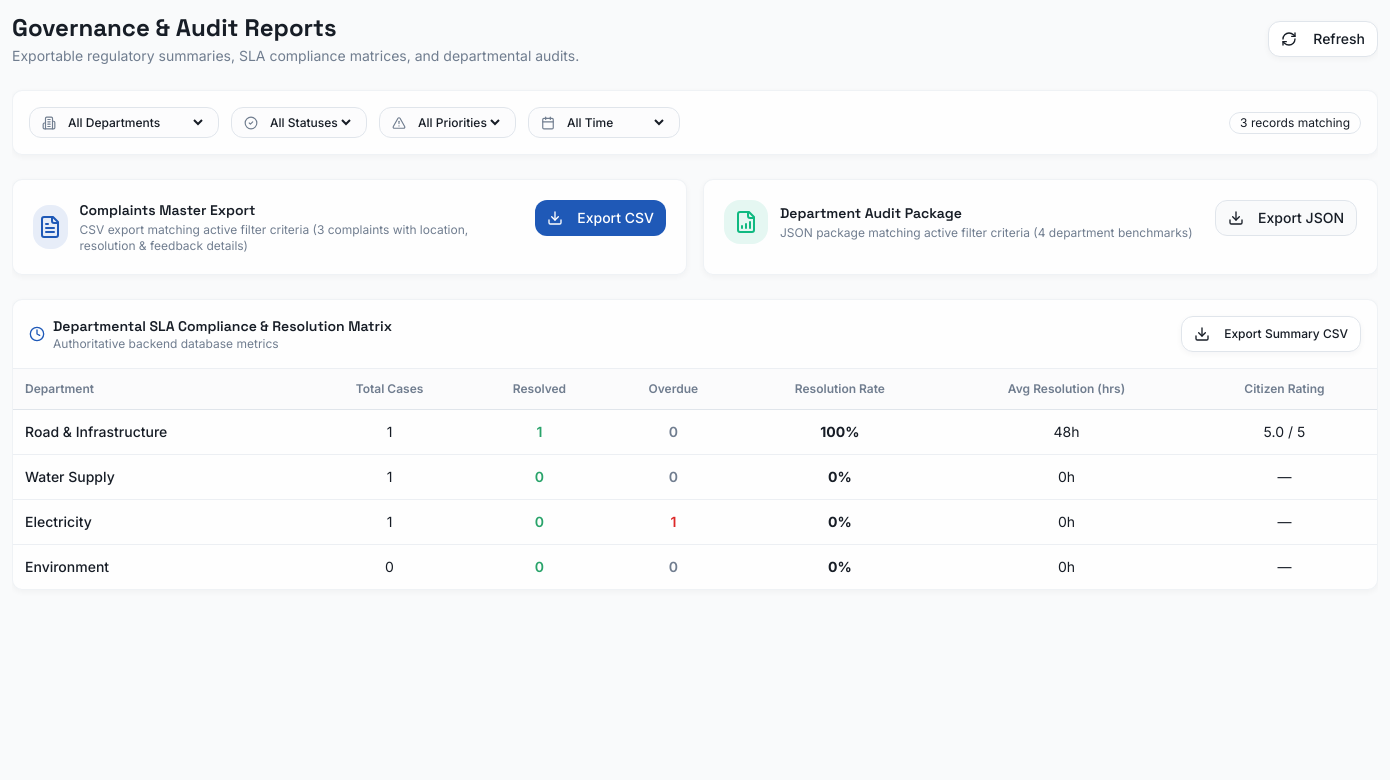
Test: AdminReports Interactive Filtering & Export Suite (Phase 5F) › clears filters when clear filters button is clicked
The image size is (1390, 780).
Expected: the text "3 records matching" is shown, top-left (1229, 112), bottom-right (1361, 134)
Select "Critical" in the dropdown named "Priority Filter" at (458, 122), box top-left (414, 114), bottom-right (503, 131)
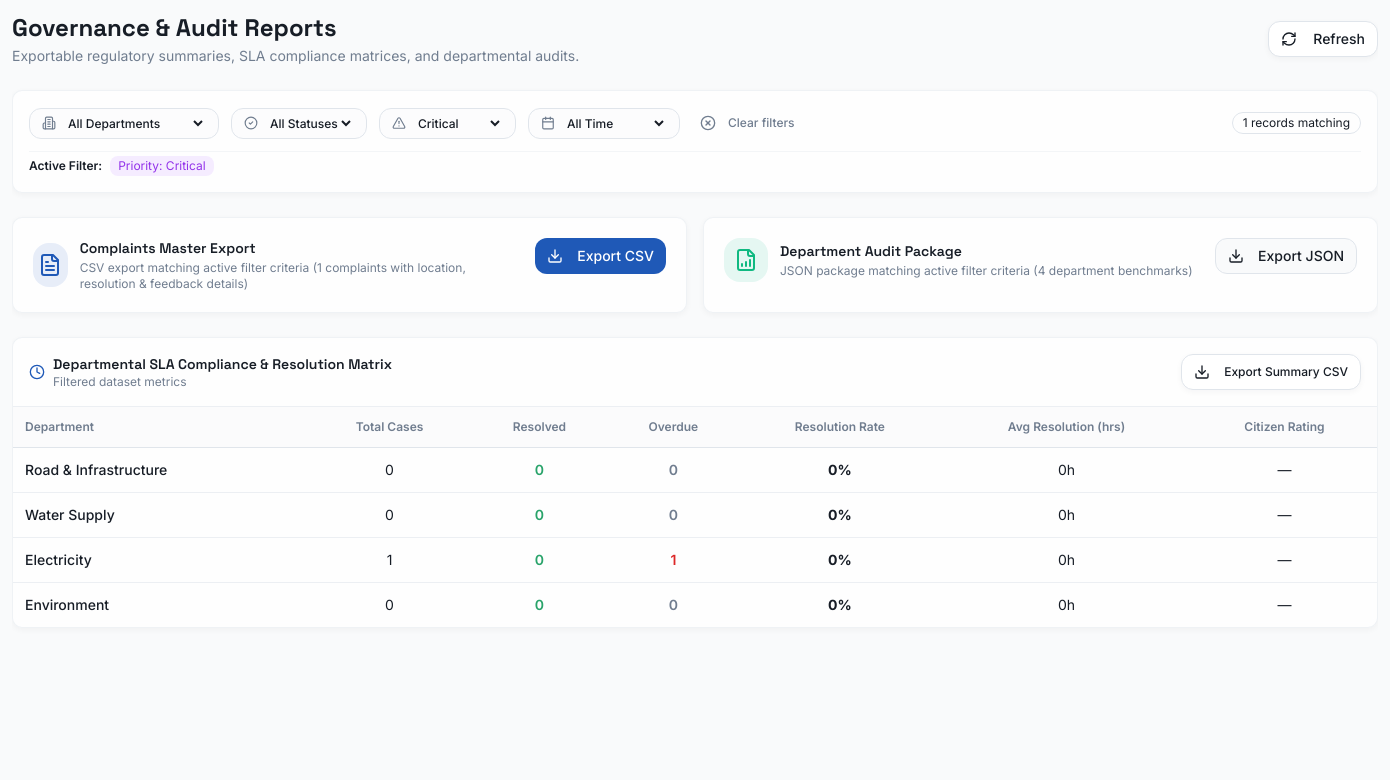
Expected: the text "1 records matching" is shown, top-left (1232, 112), bottom-right (1361, 134)
Click the button "Clear filters".
click(747, 123)  # box top-left (692, 107), bottom-right (803, 139)
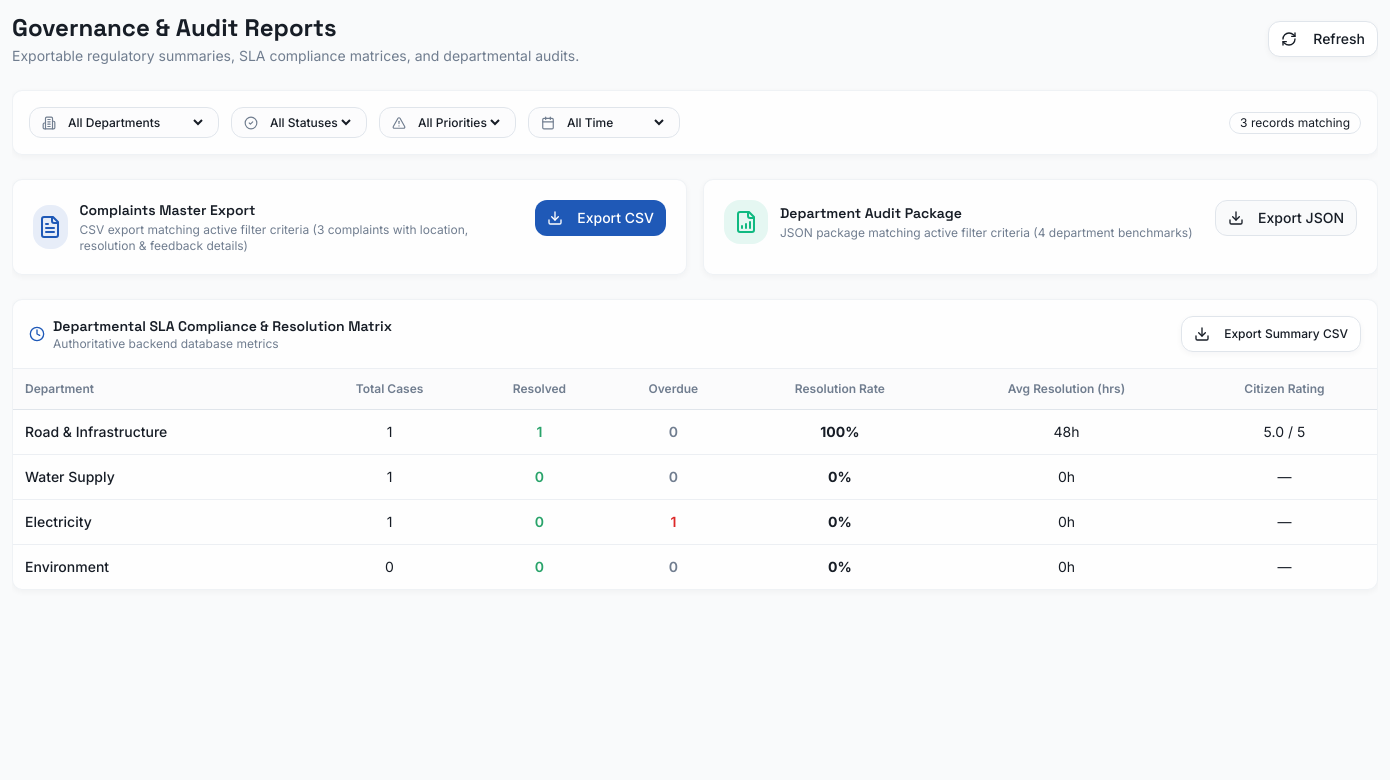
Expected: the text "3 records matching" is shown, top-left (1229, 112), bottom-right (1361, 134)
Expected: the button "Clear filters" is gone
